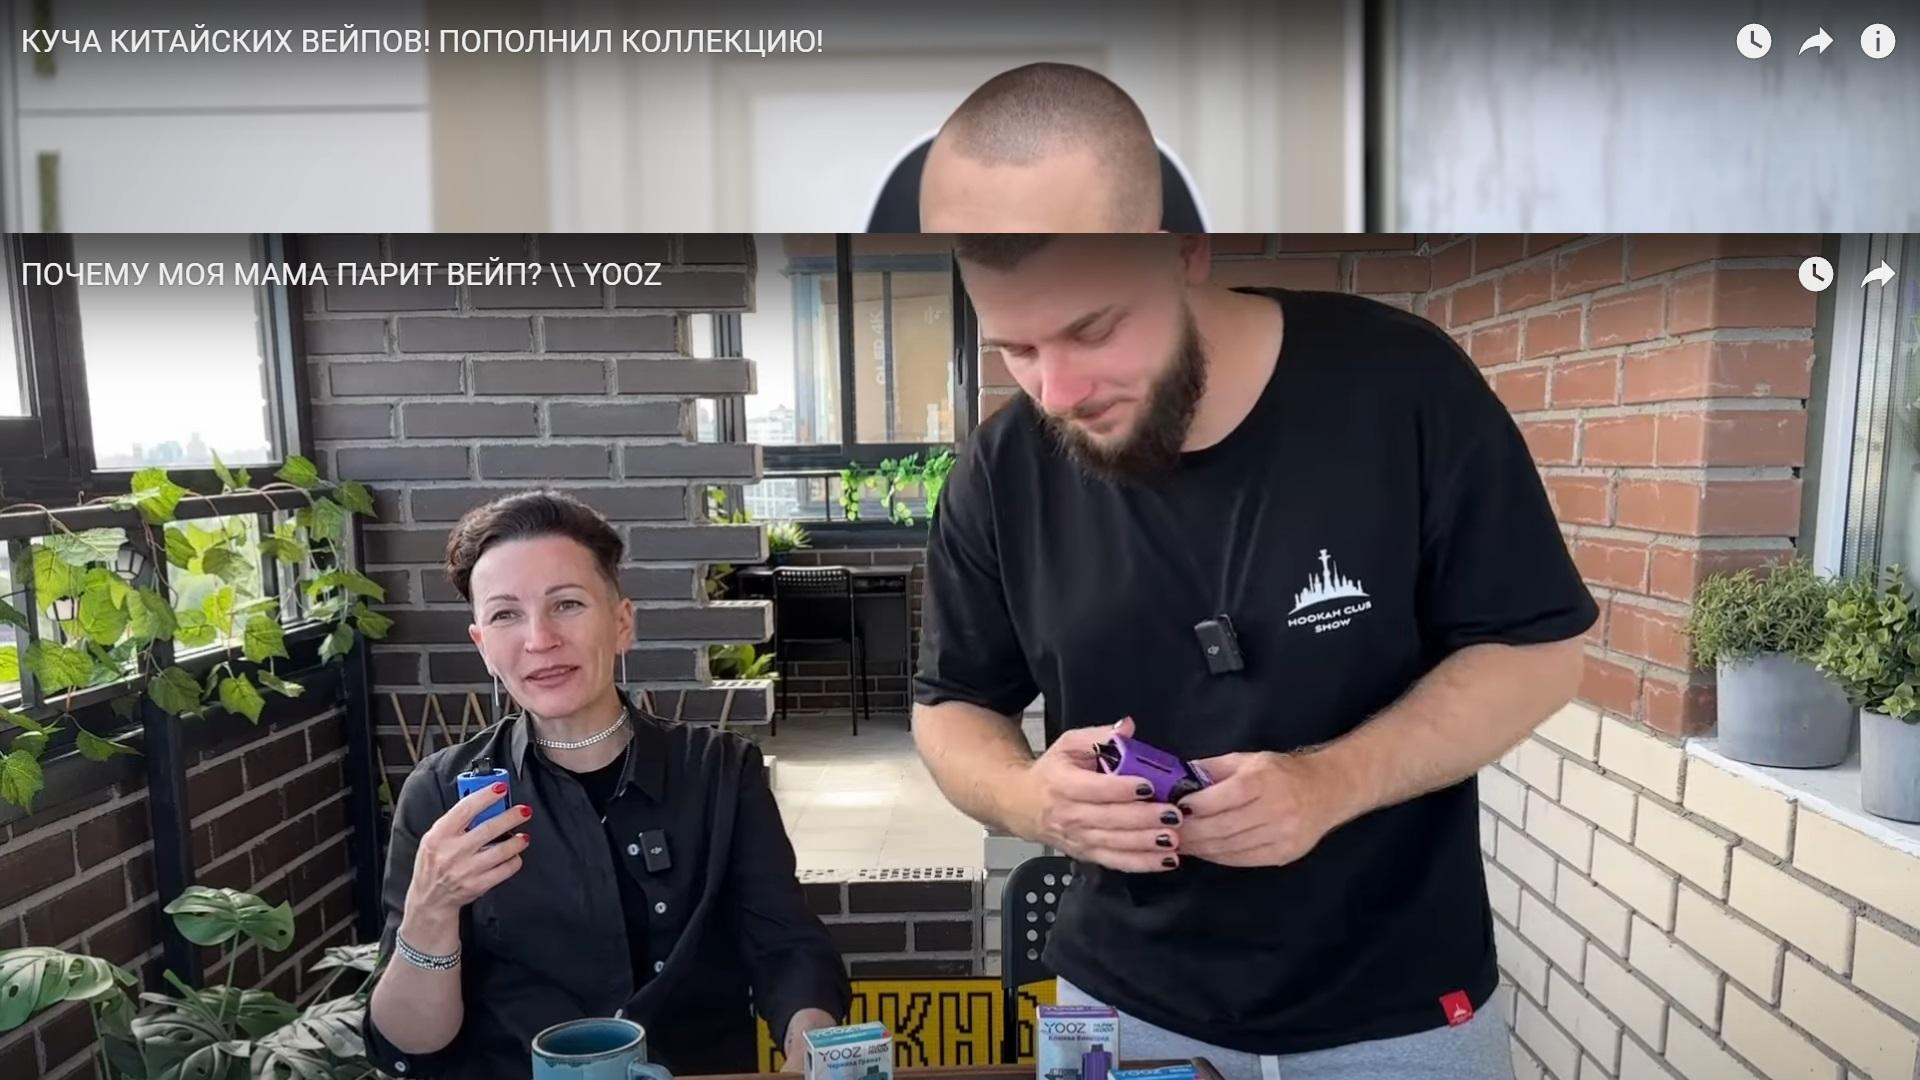Vape: (1092, 732, 1217, 804), (456, 757, 513, 829)
